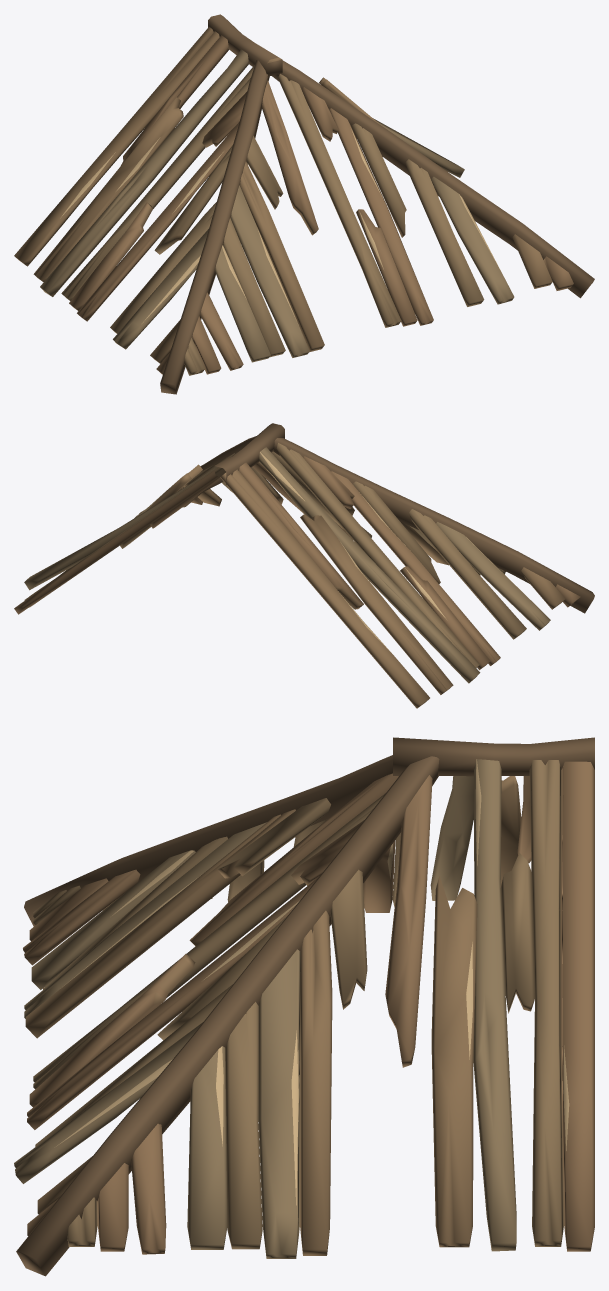
File: rpgpp_av_roof_02_9x4x3_end_02.gltf
3 renders of one model, top to bottom at view 1: azimuth 30°, elevation 25°; view 2: azimuth 150°, elevation 25°; view 3: azimuth 270°, elevation 25°, orthographic. The views are drawn at different scales.
Visible parts, largest first — view 1: rpgpp_av_roof_02_9x4x3_end_02; view 2: rpgpp_av_roof_02_9x4x3_end_02; view 3: rpgpp_av_roof_02_9x4x3_end_02.
Part boxes in pixels (x1,y1,x2,y2): rpgpp_av_roof_02_9x4x3_end_02: (14, 14, 594, 394); rpgpp_av_roof_02_9x4x3_end_02: (14, 423, 594, 708); rpgpp_av_roof_02_9x4x3_end_02: (14, 737, 594, 1276).
Size of the model in its own units: 0.1111 by 0.0514 by 0.0747.
1 material, 1 textured.
